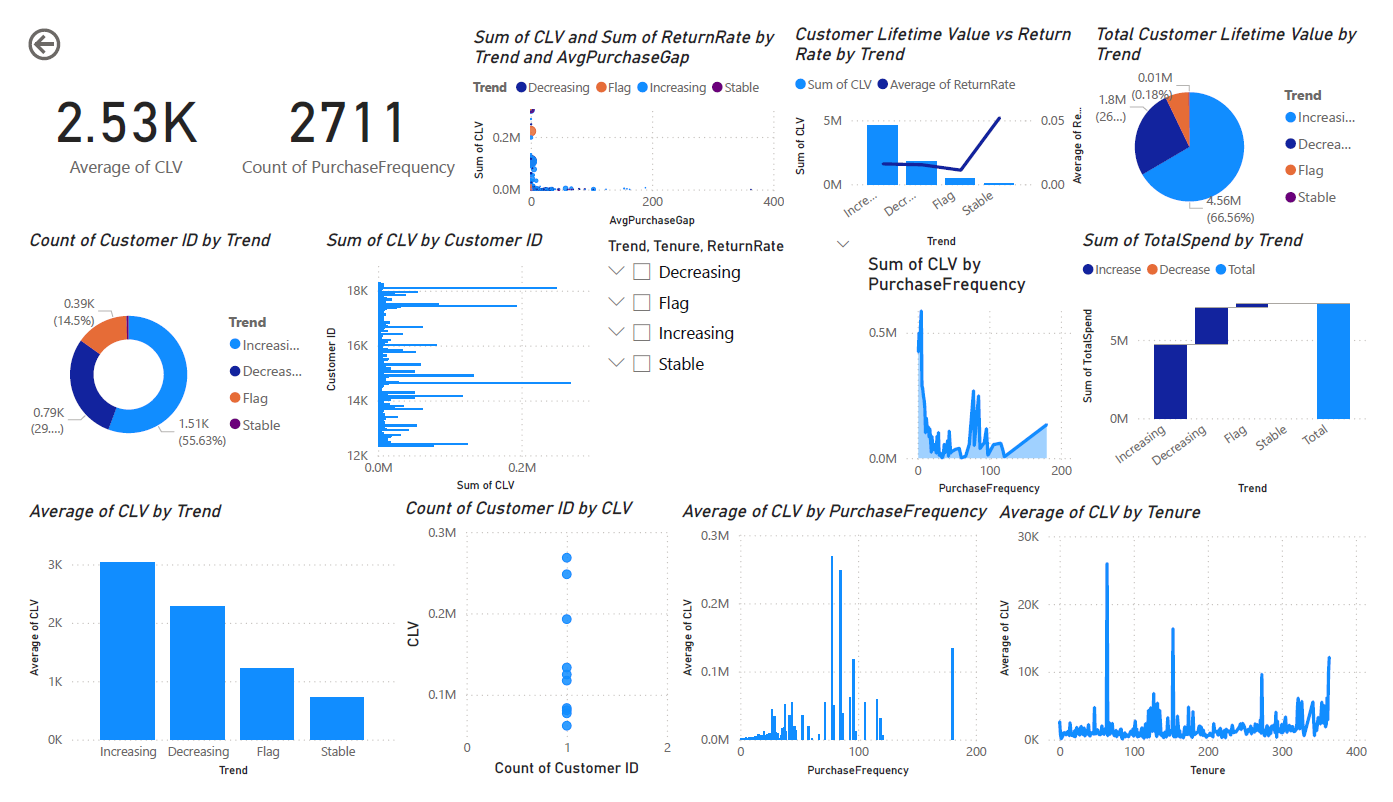

What the dashboard file says about the page in this screenshot:
{"tool":"powerbi","page":{"name":"Page 1","canvas":[1280,720],"ordinal":0},"visuals":[{"type":"card","fields":{"Values":["Avg(final_clv_dataset.CLV)"]},"box":[0,0,195,195],"z":0},{"type":"card","fields":{"Values":["CountNonNull(final_clv_dataset.PurchaseFrequency)"]},"box":[195,0,226.7,195],"z":1000},{"type":"donutChart","fields":{"Y":["CountNonNull(final_clv_dataset.Customer ID)"],"Category":["final_clv_dataset.Trend"]},"box":[0,195,281.7,258.3],"z":2000},{"type":"columnChart","fields":{"Category":["final_clv_dataset.Trend"],"Y":["Avg(final_clv_dataset.CLV)"]},"box":[0,452.8,356.8,267.6],"z":3000},{"type":"scatterChart","fields":{"Y":["final_clv_dataset.CLV"],"X":["CountNonNull(final_clv_dataset.Customer ID)"]},"box":[356.7,450,263.3,270],"z":4000},{"type":"barChart","fields":{"Category":["final_clv_dataset.Customer ID"],"Y":["Sum(final_clv_dataset.CLV)"]},"box":[281.7,195,278.3,255],"z":5000},{"type":"clusteredColumnChart","fields":{"Category":["final_clv_dataset.PurchaseFrequency"],"Y":["Avg(final_clv_dataset.CLV)"]},"box":[620,453.3,300,266.7],"z":6000},{"type":"lineChart","fields":{"Category":["final_clv_dataset.Tenure"],"Y":["Avg(final_clv_dataset.CLV)"]},"box":[921.2,453.8,358.8,266.2],"z":8000},{"type":"scatterChart","fields":{"X":["final_clv_dataset.AvgPurchaseGap"],"Y":["Sum(final_clv_dataset.CLV)"],"Size":["Sum(final_clv_dataset.ReturnRate)"],"Series":["final_clv_dataset.Trend"]},"box":[421.7,3.3,305,195],"z":9000},{"type":"pieChart","title":"Total Customer Lifetime Value by Trend","fields":{"Category":["final_clv_dataset.Trend"],"Y":["Sum(final_clv_dataset.CLV)"]},"box":[1011.7,0,268.3,196.7],"z":10000},{"type":"lineClusteredColumnComboChart","title":"Customer Lifetime Value vs Return Rate by Trend","fields":{"Y":["Sum(final_clv_dataset.CLV)"],"Y2":["Avg(final_clv_dataset.ReturnRate)"],"Category":["final_clv_dataset.Trend"]},"box":[726.7,0,285,218.3],"z":11000},{"type":"waterfallChart","fields":{"Category":["final_clv_dataset.Trend"],"Y":["Sum(final_clv_dataset.TotalSpend)"]},"box":[1000,195,280,258.3],"z":12000},{"type":"slicer","fields":{"Values":["final_clv_dataset.Trend","final_clv_dataset.Tenure","final_clv_dataset.ReturnRate"]},"box":[541.7,198.3,255,255],"z":12001},{"type":"actionButton","box":[0,0,100,40],"z":12002},{"type":"stackedAreaChart","fields":{"Category":["final_clv_dataset.PurchaseFrequency"],"Y":["Sum(final_clv_dataset.CLV)"]},"box":[797,218,203,235],"z":12003}]}

Visuals, with their boxes in screenshot pixels (x1, y1, x2, y2), scaled from the page's 1280x720 canvas onto the 1393x802 screenshot:
card - Avg(final_clv_dataset.CLV): locate(0, 0, 212, 217)
card - CountNonNull(final_clv_dataset.PurchaseFrequency): locate(212, 0, 459, 217)
donutChart - CountNonNull(final_clv_dataset.Customer ID) x final_clv_dataset.Trend: locate(0, 217, 307, 505)
columnChart - final_clv_dataset.Trend x Avg(final_clv_dataset.CLV): locate(0, 504, 388, 801)
scatterChart - final_clv_dataset.CLV x CountNonNull(final_clv_dataset.Customer ID): locate(388, 501, 675, 801)
barChart - final_clv_dataset.Customer ID x Sum(final_clv_dataset.CLV): locate(307, 217, 609, 501)
clusteredColumnChart - final_clv_dataset.PurchaseFrequency x Avg(final_clv_dataset.CLV): locate(675, 505, 1001, 801)
lineChart - final_clv_dataset.Tenure x Avg(final_clv_dataset.CLV): locate(1003, 505, 1392, 801)
scatterChart - final_clv_dataset.AvgPurchaseGap x Sum(final_clv_dataset.CLV): locate(459, 4, 791, 221)
"Total Customer Lifetime Value by Trend" pieChart: locate(1101, 0, 1392, 219)
"Customer Lifetime Value vs Return Rate by Trend" lineClusteredColumnComboChart: locate(791, 0, 1101, 243)
waterfallChart - final_clv_dataset.Trend x Sum(final_clv_dataset.TotalSpend): locate(1088, 217, 1392, 505)
slicer - final_clv_dataset.Trend x final_clv_dataset.Tenure: locate(590, 221, 867, 505)
actionButton: locate(0, 0, 109, 45)
stackedAreaChart - final_clv_dataset.PurchaseFrequency x Sum(final_clv_dataset.CLV): locate(867, 243, 1088, 505)
